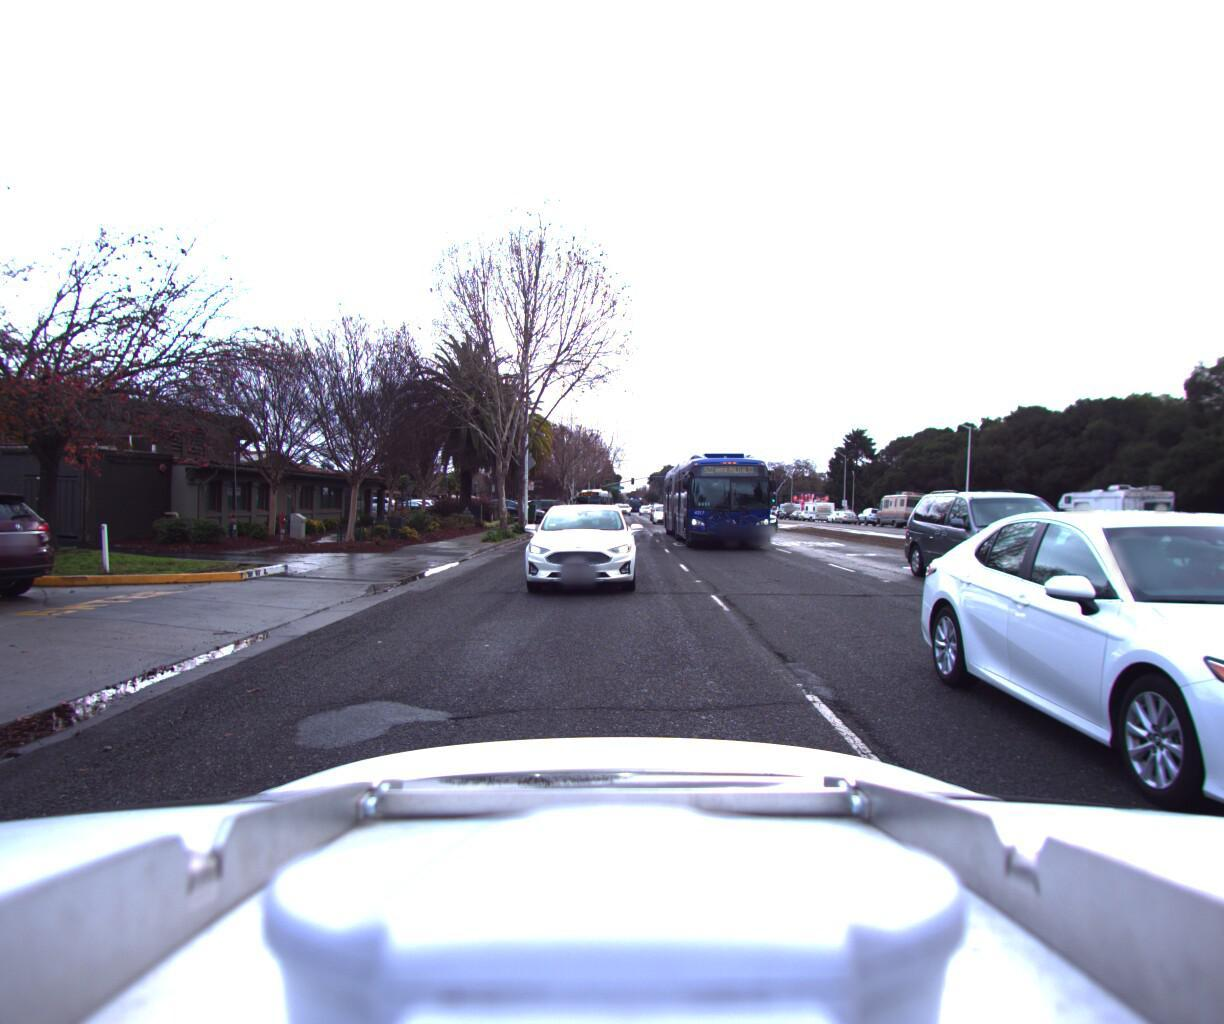bus: (654, 453, 785, 563), (570, 490, 605, 525)
car: (911, 504, 1224, 925), (897, 484, 1105, 601), (511, 488, 635, 606), (0, 485, 57, 613), (1173, 525, 1224, 566), (650, 504, 679, 529)
other_vehicle: (1047, 483, 1182, 554), (871, 493, 938, 535)
